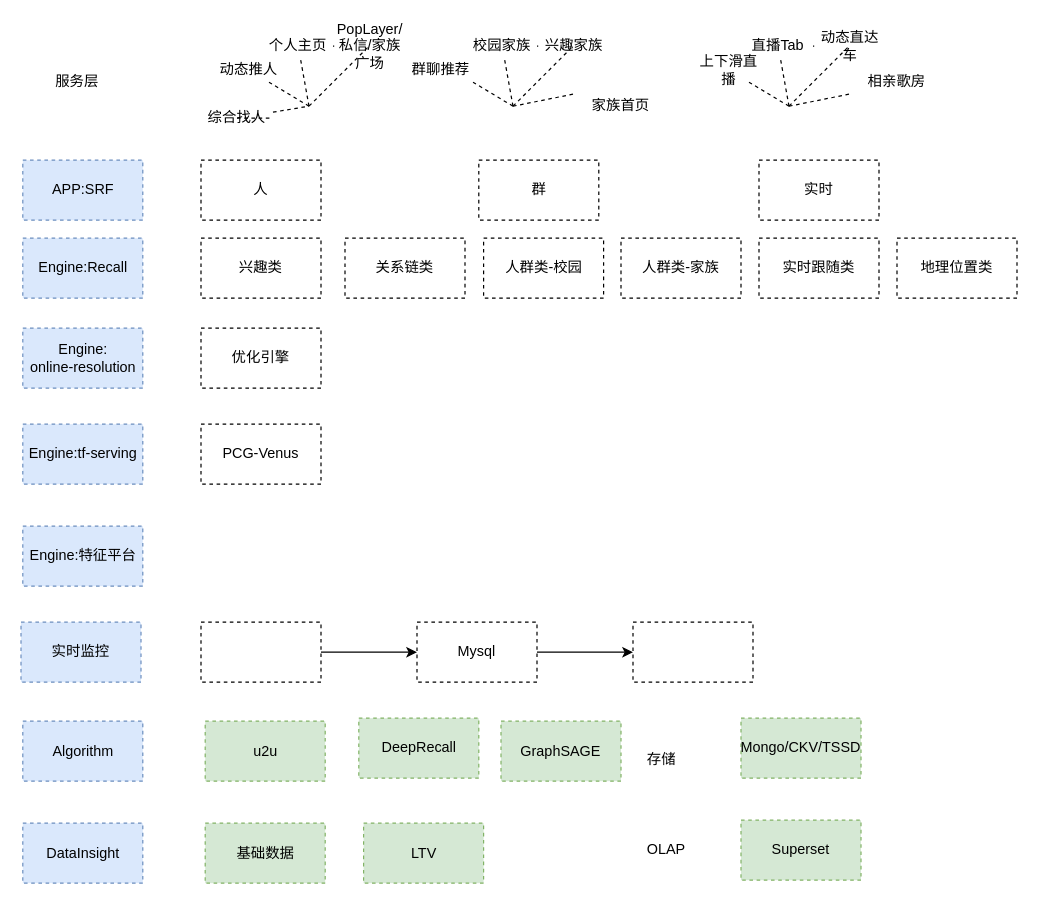
The diagram is 1038 pixels wide and 905 high, and some of its shapes have lost their labels. The centre of each missing label's shape, as x and y in pixels:
"Flink" goes at point (260, 651).
"Grafana" goes at point (692, 651).
